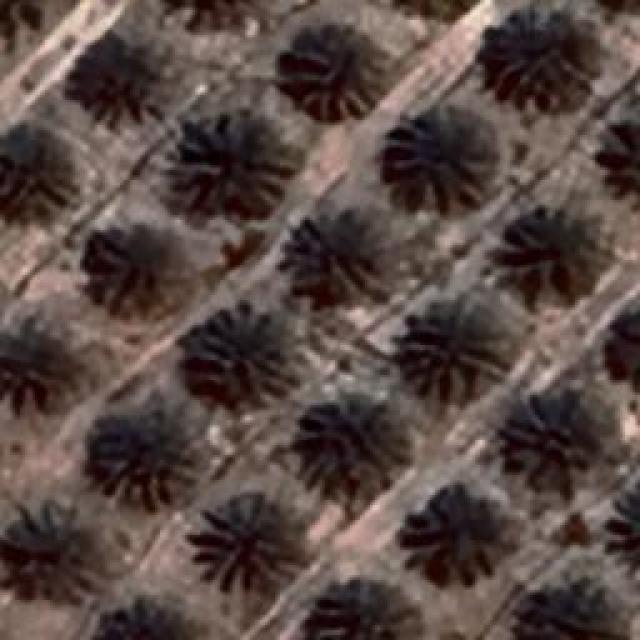PalmTree: (34, 88, 88, 368), (82, 400, 202, 510), (380, 108, 498, 210), (182, 305, 296, 405), (178, 117, 300, 210), (402, 300, 508, 400), (278, 212, 392, 300), (188, 497, 290, 595), (404, 496, 512, 586), (280, 28, 382, 122), (288, 416, 392, 506), (510, 388, 608, 478), (478, 7, 578, 95), (500, 210, 595, 300), (92, 222, 172, 316), (6, 521, 96, 601), (0, 121, 70, 221), (307, 577, 412, 640), (70, 45, 158, 120), (522, 595, 628, 640), (100, 605, 205, 640), (607, 475, 640, 576), (158, 0, 262, 31), (612, 302, 640, 392), (0, 0, 65, 34), (382, 0, 486, 19), (620, 302, 640, 391)
